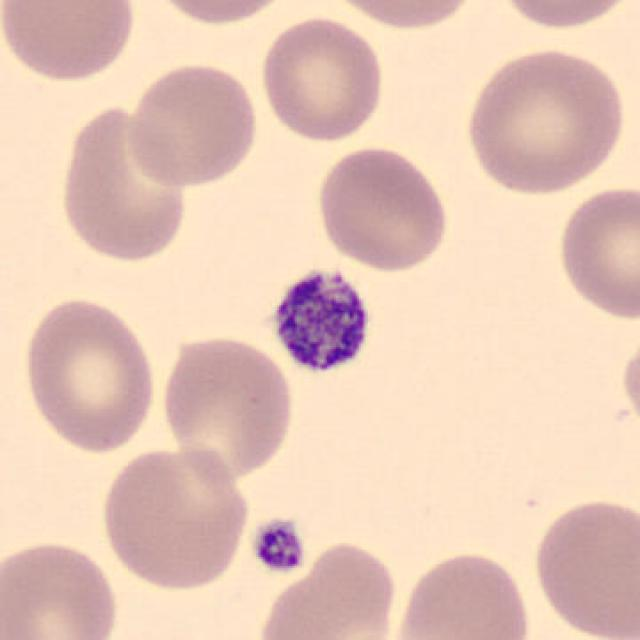Platelets: (265, 265, 377, 379), (247, 515, 309, 576)
RBC: (458, 44, 628, 198), (96, 442, 252, 592), (18, 293, 160, 457), (53, 101, 192, 266), (156, 330, 298, 485), (123, 58, 263, 190), (313, 141, 453, 273), (256, 12, 389, 144), (528, 492, 638, 640), (252, 536, 402, 640), (387, 546, 535, 640), (0, 534, 123, 640), (553, 182, 638, 322), (0, 0, 140, 84), (319, 0, 485, 33), (488, 0, 638, 33), (142, 0, 297, 28), (617, 328, 640, 439)
